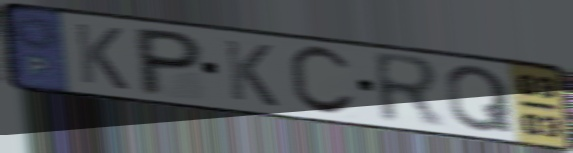C: (284, 43, 360, 118)
K: (71, 19, 132, 93), (220, 36, 281, 110)
P: (136, 25, 207, 98)
Q: (443, 63, 518, 135)
R: (368, 49, 447, 131)
